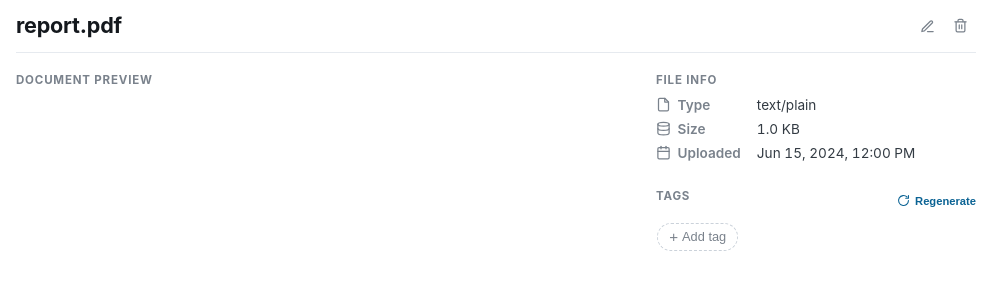
DocumentDetail › shows an error when adding a tag fails
Click the button with aria-label "Add a tag" at (698, 237), box left=657, top=223, right=738, bottom=251
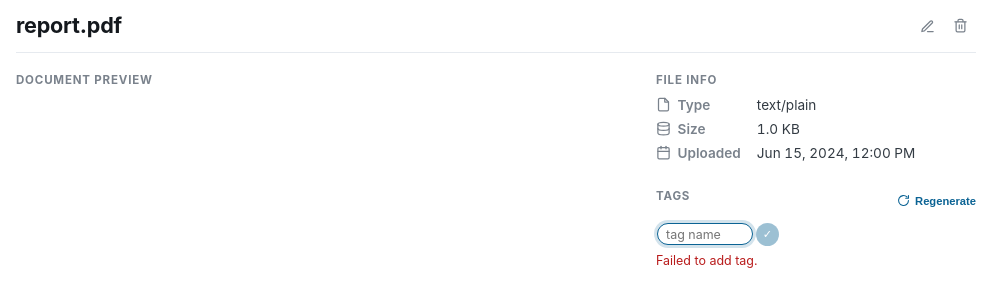
Now the text "Failed to add tag." is shown, box left=656, top=253, right=758, bottom=268
